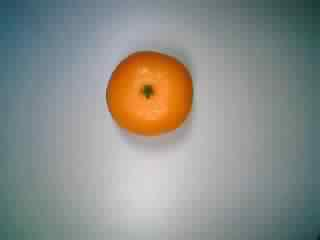orange: (101, 44, 199, 142)
